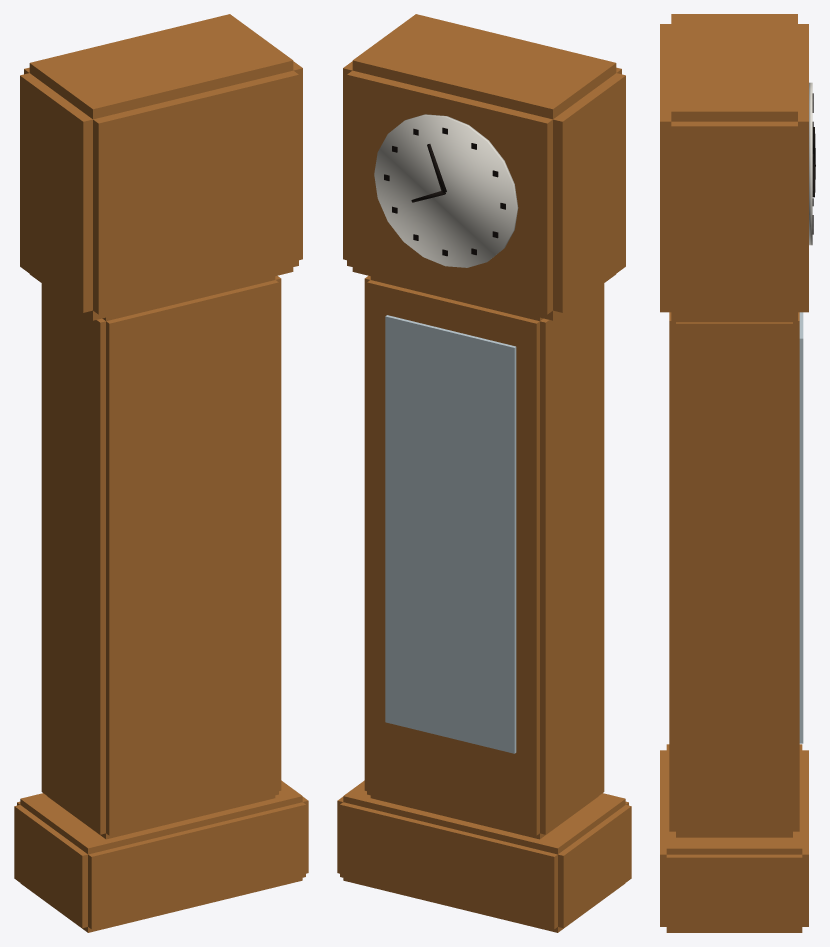
File: lihzahrd_clock_v0.glb
The picture shows the model from 3 angles, left to right: view 1: azimuth 30°, elevation 25°; view 2: azimuth 150°, elevation 25°; view 3: azimuth 270°, elevation 25°; orthographic projection.
Visible parts, largest first — view 1: lihzahrd_clock_v0; view 2: lihzahrd_clock_v0; view 3: lihzahrd_clock_v0.
Boxes of the visible parts, x1,y1,x2,y2 form: lihzahrd_clock_v0: [14, 14, 308, 932]; lihzahrd_clock_v0: [337, 14, 631, 932]; lihzahrd_clock_v0: [660, 14, 815, 932].
Size of the model in its own units: 0.7 by 2.42 by 0.4185.
